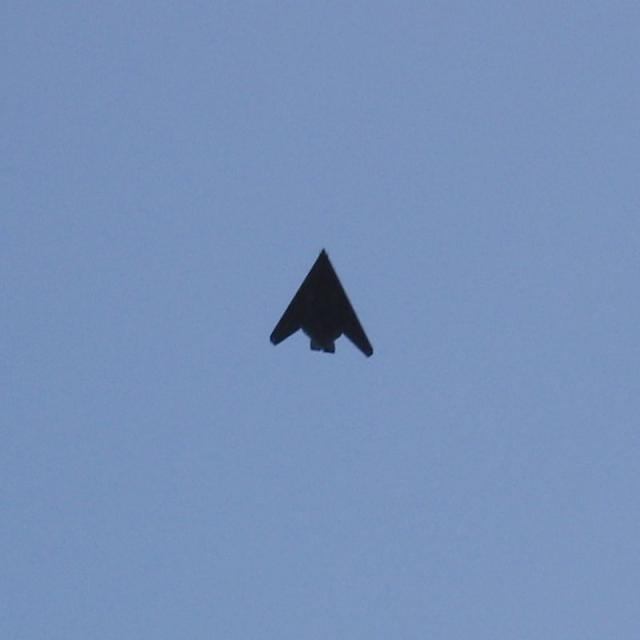MIL_Plane: (268, 246, 374, 358)
